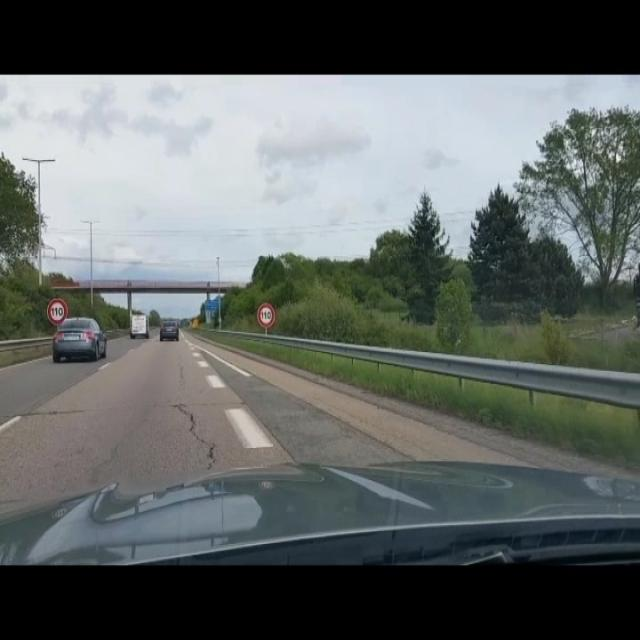speed_110: (47, 297, 68, 326), (257, 301, 276, 329)
